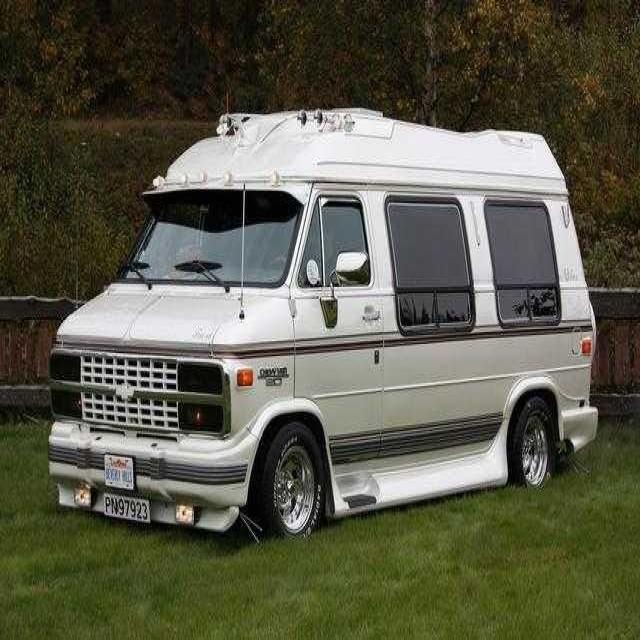Van: (48, 98, 598, 540)
